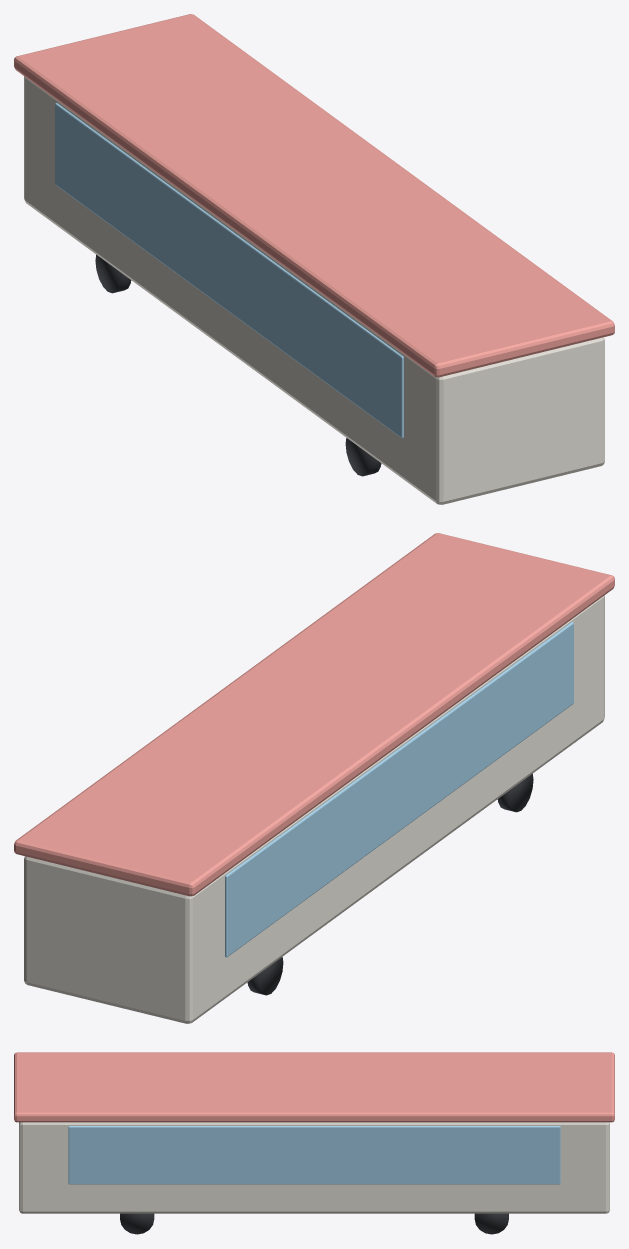
File: BeachTrain_blockout.glb
3 renders of one model, top to bottom at view 1: azimuth 30°, elevation 25°; view 2: azimuth 150°, elevation 25°; view 3: azimuth 270°, elevation 25°, orthographic. The views are drawn at different scales.
Parts seen in each view (by area): view 1: VEH05_BeachTrain_Roof_L0, VEH05_BeachTrain_Body_L0, VEH05_BeachTrain_Window0_L0, VEH05_BeachTrain_Wheel1S0_L0, VEH05_BeachTrain_Wheel0S0_L0; view 2: VEH05_BeachTrain_Roof_L0, VEH05_BeachTrain_Body_L0, VEH05_BeachTrain_Window0_L0, VEH05_BeachTrain_Wheel0S0_L0, VEH05_BeachTrain_Wheel1S0_L0; view 3: VEH05_BeachTrain_Roof_L0, VEH05_BeachTrain_Window2_L0, VEH05_BeachTrain_Body_L0, VEH05_BeachTrain_Wheel0S2_L0, VEH05_BeachTrain_Wheel1S2_L0.
Boxes of the visible parts, box(x1,y1,x2,y2) form: VEH05_BeachTrain_Roof_L0: box(14, 14, 614, 377); VEH05_BeachTrain_Body_L0: box(24, 76, 604, 504); VEH05_BeachTrain_Window0_L0: box(55, 103, 403, 438); VEH05_BeachTrain_Wheel1S0_L0: box(95, 254, 131, 293); VEH05_BeachTrain_Wheel0S0_L0: box(345, 438, 381, 476); VEH05_BeachTrain_Roof_L0: box(14, 533, 614, 896); VEH05_BeachTrain_Body_L0: box(24, 595, 604, 1023); VEH05_BeachTrain_Window0_L0: box(225, 622, 573, 957); VEH05_BeachTrain_Wheel0S0_L0: box(497, 773, 533, 812); VEH05_BeachTrain_Wheel1S0_L0: box(247, 957, 283, 995); VEH05_BeachTrain_Roof_L0: box(14, 1052, 614, 1122); VEH05_BeachTrain_Window2_L0: box(68, 1126, 560, 1184); VEH05_BeachTrain_Body_L0: box(19, 1122, 609, 1213); VEH05_BeachTrain_Wheel0S2_L0: box(120, 1213, 154, 1234); VEH05_BeachTrain_Wheel1S2_L0: box(474, 1213, 508, 1234).
Size of the model in its own units: 3 by 2.77 by 12.2.
